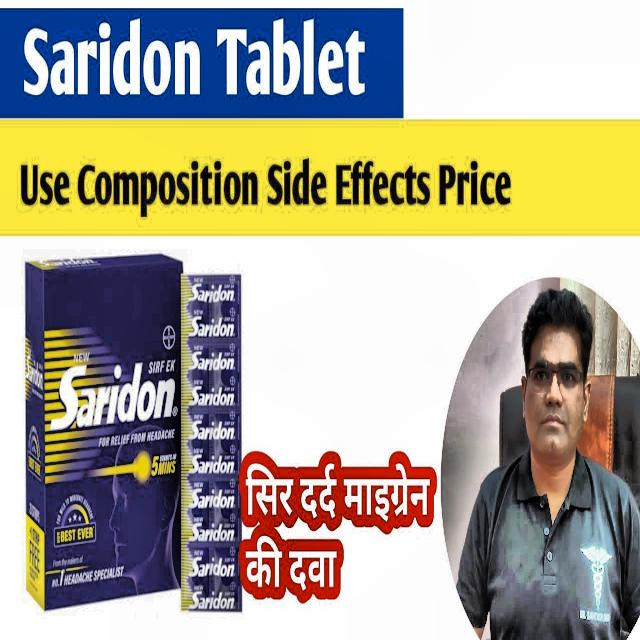Saridon: (28, 260, 198, 595), (18, 12, 365, 106)
